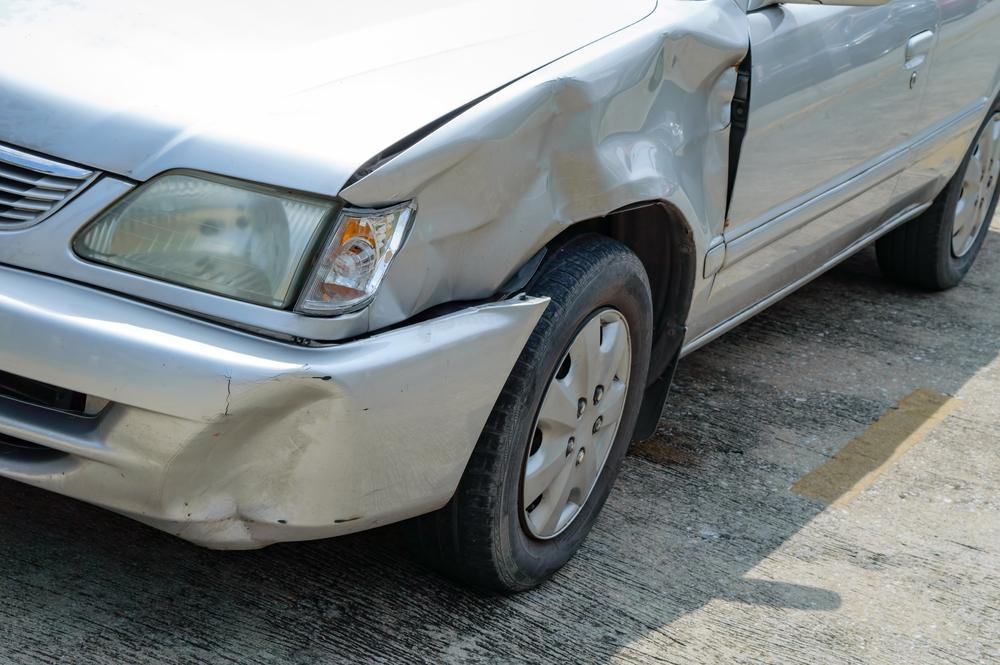dent: (354, 30, 743, 324), (156, 378, 343, 544)
